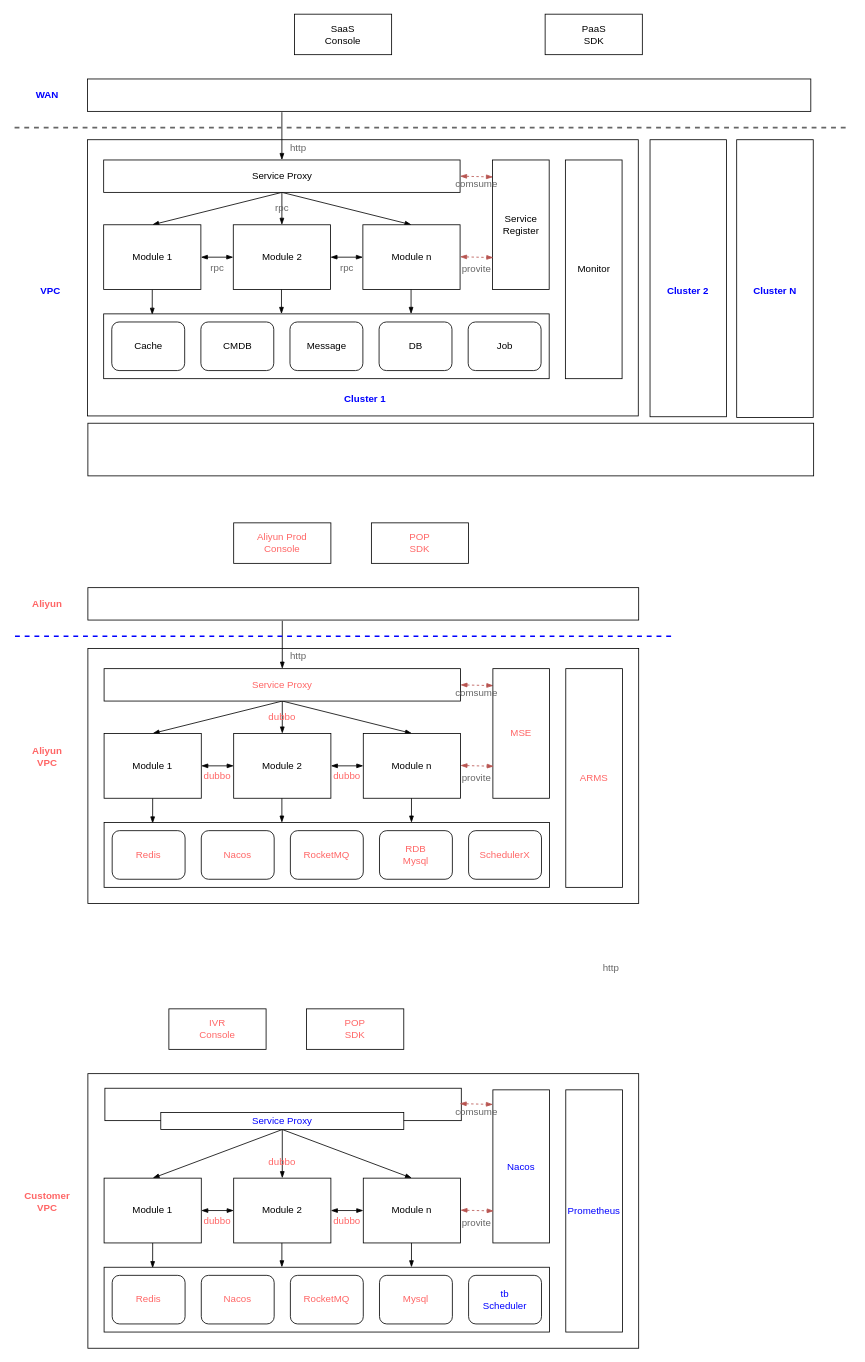
This 865x1362 diagram has some shape labels left out. Here are the shapes that lost their labels. From the top down, the box of each, then its label:
(87, 78, 811, 111): Gateway
(87, 587, 639, 620): POP
(104, 1087, 461, 1121): VH Gateway
